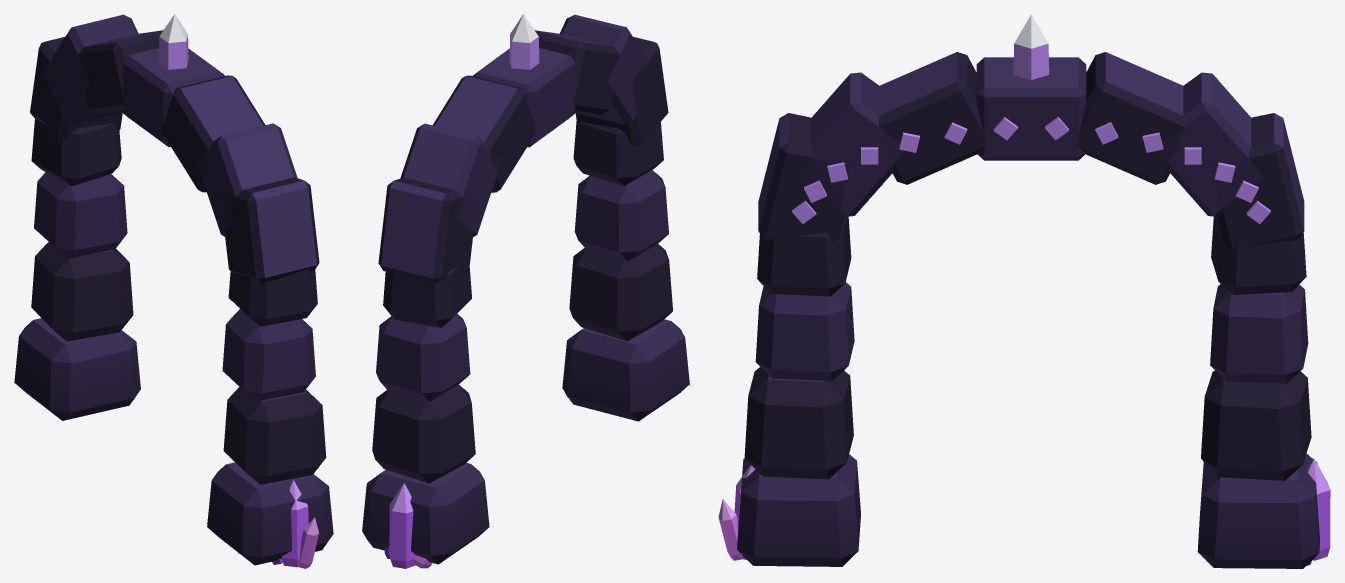
File: void_arch.glb
3 views of the same model, side by side, from view 1: azimuth 30°, elevation 25°; view 2: azimuth 150°, elevation 25°; view 3: azimuth 270°, elevation 25° (orthographic). The views are drawn at different scales.
Visible parts, largest first — view 1: Body, Glow; view 2: Body, Glow; view 3: Body, Glow.
Boxes of the visible parts, left/top/right/bottom form: Body: left=14, top=14, right=333, bottom=565; Glow: left=158, top=14, right=318, bottom=568; Body: left=362, top=14, right=689, bottom=564; Glow: left=384, top=14, right=539, bottom=568; Body: left=737, top=52, right=1319, bottom=568; Glow: left=718, top=14, right=1330, bottom=565.
Size of the model in its own units: 1.35 by 6.3 by 6.42.
